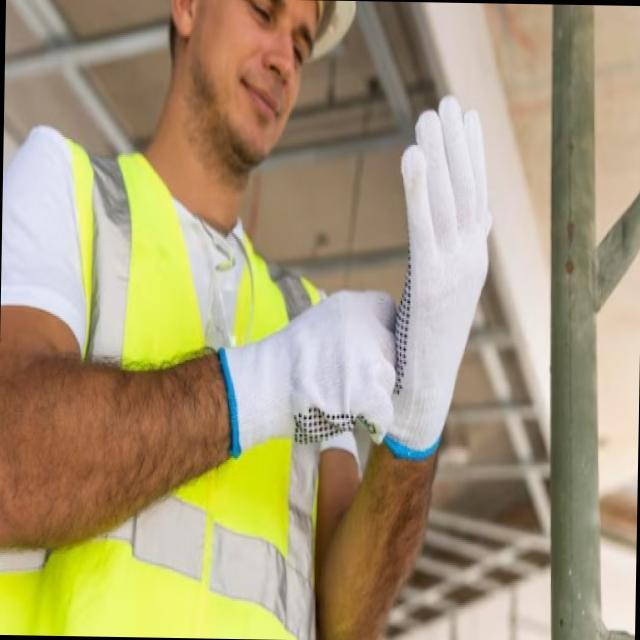gloved: (370, 90, 498, 462), (215, 284, 399, 462)
